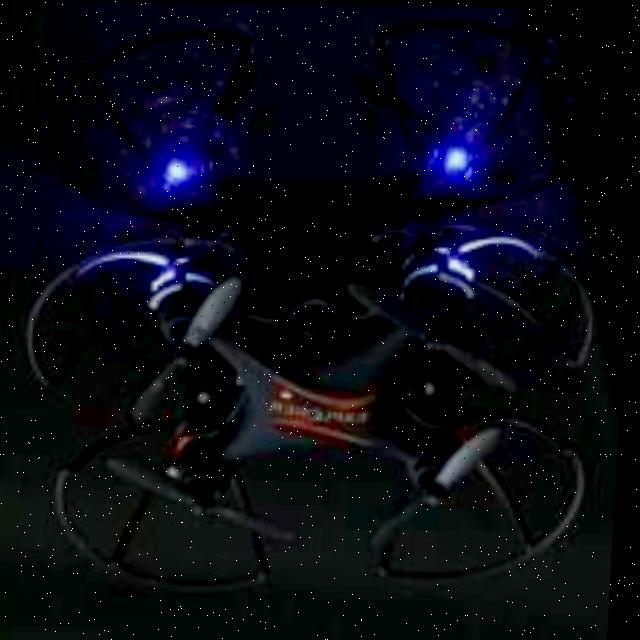drone: (0, 202, 632, 596)
